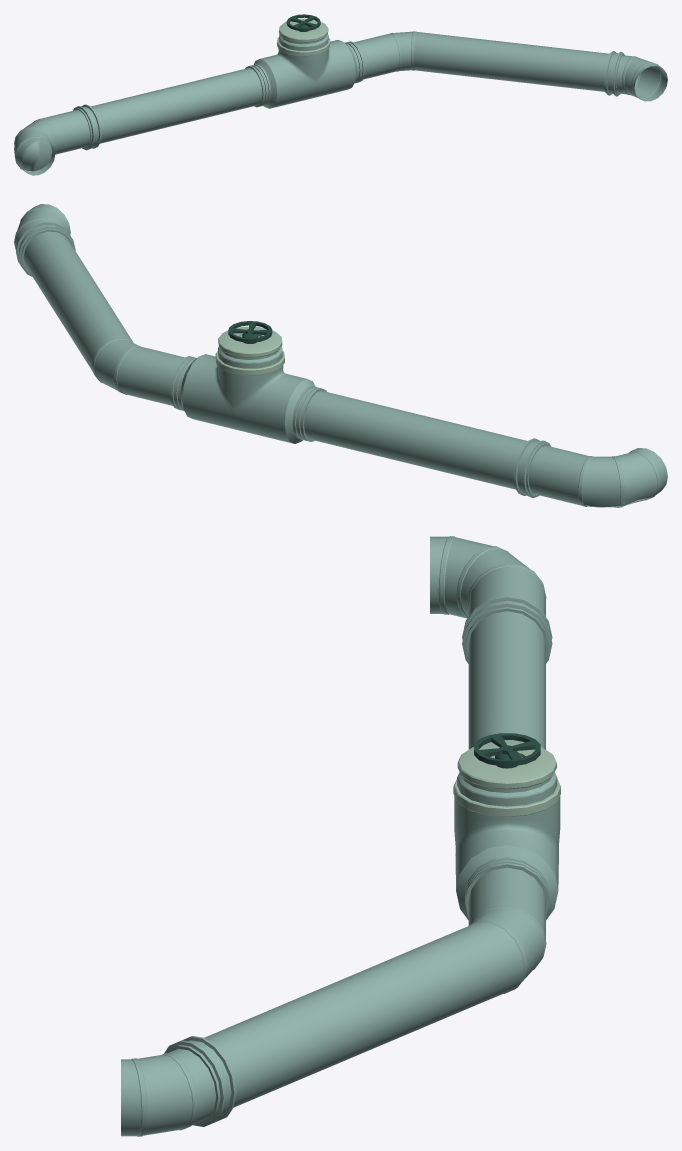
File: PipeComplexLarge_B_05.fbx
The picture shows the model from 3 angles, top to bottom: view 1: azimuth 30°, elevation 25°; view 2: azimuth 150°, elevation 25°; view 3: azimuth 270°, elevation 25°; orthographic projection. The views are drawn at different scales.
Parts seen in each view (by area): view 1: PipeComplexLarge_B_05.001; view 2: PipeComplexLarge_B_05.001; view 3: PipeComplexLarge_B_05.001.
Part boxes in pixels (x1,y1,x2,y2): PipeComplexLarge_B_05.001: (14,14,667,175); PipeComplexLarge_B_05.001: (14,204,667,507); PipeComplexLarge_B_05.001: (121,536,560,1136).
Bounding box in the file's own units: 3.4 × 0.4338 × 1.14.
